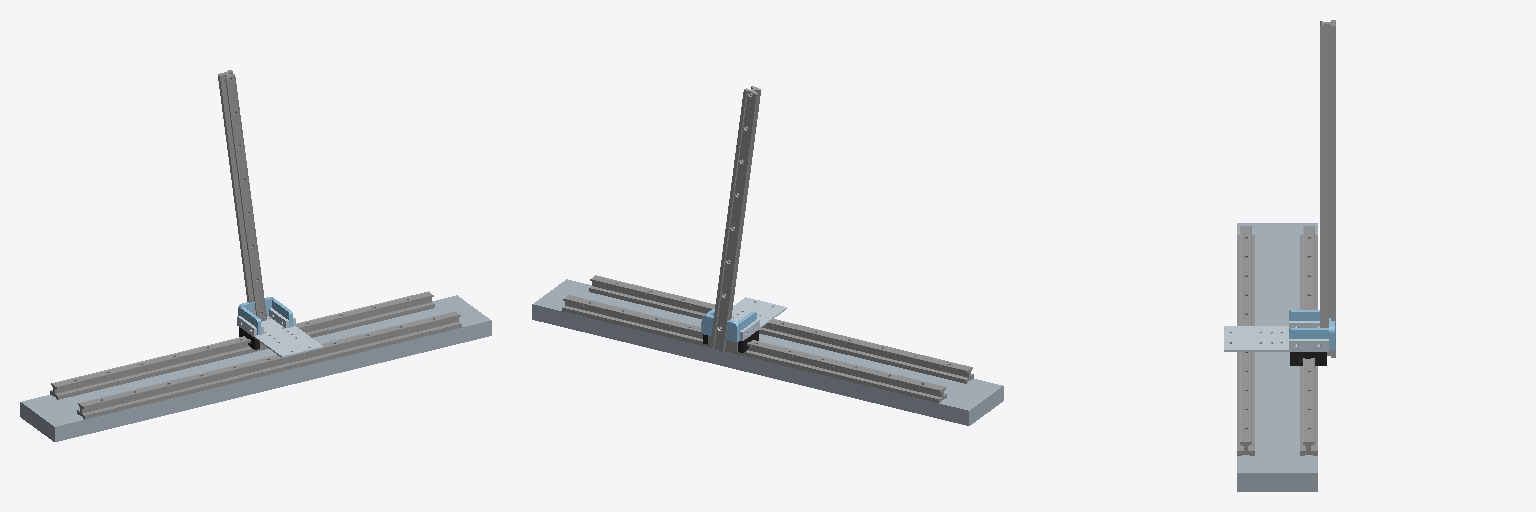
URDF robot description ([local-path]\--pendenv2\robot):
<?xml version="1.0" ?>
<!-- Generated using onshape-to-robot -->
<!-- Onshape https://cad.onshape.com/documents/265efb939ed346b4f7d58738/w/e78ce4e22e083f7f18410c40/e/9bd407be63addb95f326e36a -->
<robot name="C:\Users\Rohith\--pendenv2\robot">
  <!-- Link linear_rail -->
  <link name="linear_rail">
    <inertial>
      <origin xyz="-0.0247248 -0.0874845 -0.0764714" rpy="0 0 0"/>
      <mass value="3.07157"/>
      <inertia ixx="0.00459585" ixy="-0" ixz="-1.03574e-06" iyy="0.112669" iyz="-0" izz="0.11651"/>
    </inertial>
    <!-- Part linear_rail -->
    <visual>
      <origin xyz="0.292708 -0.12654 -0.0732083" rpy="0 -0 0"/>
      <geometry>
        <mesh filename="package://assets\linear_rail.stl"/>
      </geometry>
      <material name="linear_rail_material">
        <color rgba="0.647059 0.647059 0.647059 1"/>
      </material>
    </visual>
    <collision>
      <origin xyz="0.292708 -0.12654 -0.0732083" rpy="0 -0 0"/>
      <geometry>
        <mesh filename="package://assets\linear_rail.stl"/>
      </geometry>
    </collision>
    <!-- Part linear_rail_2 -->
    <visual>
      <origin xyz="0.292708 -0.0484295 -0.0732083" rpy="-0 0 0"/>
      <geometry>
        <mesh filename="package://assets\linear_rail.stl"/>
      </geometry>
      <material name="linear_rail_2_material">
        <color rgba="0.647059 0.647059 0.647059 1"/>
      </material>
    </visual>
    <collision>
      <origin xyz="0.292708 -0.0484295 -0.0732083" rpy="-0 0 0"/>
      <geometry>
        <mesh filename="package://assets\linear_rail.stl"/>
      </geometry>
    </collision>
    <!-- Part wood_base -->
    <visual>
      <origin xyz="-0.0497919 -0.0874845 -0.104688" rpy="0 -0 0"/>
      <geometry>
        <mesh filename="package://assets\wood_base.stl"/>
      </geometry>
      <material name="wood_base_material">
        <color rgba="0.713725 0.760784 0.8 1"/>
      </material>
    </visual>
    <collision>
      <origin xyz="-0.0497919 -0.0874845 -0.104688" rpy="0 -0 0"/>
      <geometry>
        <mesh filename="package://assets\wood_base.stl"/>
      </geometry>
    </collision>
  </link>
  <!-- Link part_1 -->
  <link name="part_1">
        <inertial>
            <mass value="0.5" />
            <origin xyz="0 -0.01 -0.01" rpy="0 -0 0" />
            <inertia ixx="0.01" ixy="0" ixz="0" iyy="0.01" iyz="0" izz="0.01" />
        </inertial>
    <!-- Part part_1 -->
    <visual>
      <origin xyz="0.023 0.010085 -0.034" rpy="-1.5708 0 -0"/>
      <geometry>
        <mesh filename="package://assets\part_1.stl"/>
      </geometry>
      <material name="part_1_material">
        <color rgba="0.811765 0.858824 0.898039 1"/>
      </material>
    </visual>
    <collision>
      <origin xyz="0.023 0.010085 -0.034" rpy="-1.5708 0 -0"/>
      <geometry>
        <mesh filename="package://assets\part_1.stl"/>
      </geometry>
    </collision>
    <!-- Part part_1_2 -->
    <visual>
      <origin xyz="-0.00307553 0.0608641 -0.058669" rpy="-1.5708 1.5708 0"/>
      <geometry>
        <mesh filename="package://assets\part_1__2.stl"/>
      </geometry>
      <material name="part_1_2_material">
        <color rgba="0.615686 0.811765 0.929412 1"/>
      </material>
    </visual>
    <collision>
      <origin xyz="-0.00307553 0.0608641 -0.058669" rpy="-1.5708 1.5708 0"/>
      <geometry>
        <mesh filename="package://assets\part_1__2.stl"/>
      </geometry>
    </collision>
    <!-- Part part_2 -->
    <visual>
      <origin xyz="0.023 -0.009915 -0.034" rpy="-1.5708 0 -0"/>
      <geometry>
        <mesh filename="package://assets\part_2.stl"/>
      </geometry>
      <material name="part_2_material">
        <color rgba="0.647059 0.647059 0.647059 1"/>
      </material>
    </visual>
    <collision>
      <origin xyz="0.023 -0.009915 -0.034" rpy="-1.5708 0 -0"/>
      <geometry>
        <mesh filename="package://assets\part_2.stl"/>
      </geometry>
    </collision>
    <!-- Part am_4456_8_mm_id_22_mm_od_shielded_bearing_608zz_57155k629 -->
    <visual>
      <origin xyz="-0.0381275 0.800812 0.00913641" rpy="3.14159 1.5708 0"/>
      <geometry>
        <mesh filename="package://assets\am_4456_8_mm_id_22_mm_od_shielded_bearing_608zz_57155k629.stl"/>
      </geometry>
      <material name="am_4456_8_mm_id_22_mm_od_shielded_bearing_608zz_57155k629_material">
        <color rgba="0.752941 0.752941 0.752941 1"/>
      </material>
    </visual>
    <collision>
      <origin xyz="-0.0381275 0.800812 0.00913641" rpy="3.14159 1.5708 0"/>
      <geometry>
        <mesh filename="package://assets\am_4456_8_mm_id_22_mm_od_shielded_bearing_608zz_57155k629.stl"/>
      </geometry>
    </collision>
    <!-- Part part_1_3 -->
    <visual>
      <origin xyz="0.023 -0.009815 -0.034" rpy="-1.5708 -0 0"/>
      <geometry>
        <mesh filename="package://assets\part_1__3.stl"/>
      </geometry>
      <material name="part_1_3_material">
        <color rgba="0.203922 0.188235 0.188235 1"/>
      </material>
    </visual>
    <collision>
      <origin xyz="0.023 -0.009815 -0.034" rpy="-1.5708 -0 0"/>
      <geometry>
        <mesh filename="package://assets\part_1__3.stl"/>
      </geometry>
    </collision>
  </link>
  <!-- Link pendulum -->
  <link name="pendulum">
    <inertial>
      <origin xyz="0.180319 -0 -0.00707436" rpy="0 0 0"/>
      <mass value="0.238"/>
      <inertia ixx="0.01" ixy="0" ixz="0" iyy="0.01" iyz="0" izz="0.01"/>
    </inertial>
    <!-- Part pendulum -->
    <visual>
      <origin xyz="0.3968 0 -0.00505505" rpy="-3.14159 0 0"/>
      <geometry>
        <mesh filename="package://assets\pendulum.stl"/>
      </geometry>
      <material name="pendulum_material">
        <color rgba="0.647059 0.647059 0.647059 1"/>
      </material>
    </visual>
    <collision>
      <origin xyz="0.3968 0 -0.00505505" rpy="-3.14159 0 0"/>
      <geometry>
        <mesh filename="package://assets\pendulum.stl"/>
      </geometry>
    </collision>
  </link>
  <!-- Joint from part_1 to pendulum -->
  <joint name="pendulum_pivot" type="revolute">
    <origin xyz="-0.0100755 0.0261118 -0.0336771" rpy="-1.5708 -0.132152 1.5708"/>
    <parent link="part_1"/>
    <child link="pendulum"/>
    <axis xyz="0 0 1"/>
    <limit effort="10" velocity="10" lower="-3.141592653589793" upper="3.141592653589793"/>
  </joint>
  <!-- Joint from linear_rail to part_1 -->
  <joint name="cart_slider" type="prismatic">
    <origin xyz="-0.0180985 -0.0264295 -0.0601986" rpy="1.5708 -0 -1.5708"/>
    <parent link="linear_rail"/>
    <child link="part_1"/>
    <axis xyz="0 0 1"/>
    <limit effort="100" velocity="100" lower="-0.15" upper="0.15"/>
  </joint>
</robot>

--- Facts derived from the render (not from the file) ---
3 views of the same robot in one strip: view 1: azimuth 30°, elevation 25°; view 2: azimuth 150°, elevation 25°; view 3: azimuth 270°, elevation 25° (orthographic).
Model [local-path]\--pendenv2\robot with 3 links and 2 joints (1 revolute, 1 prismatic), rooted at linear_rail, posed every joint at zero.
Visible links, largest first — view 1: linear_rail, pendulum, part_1; view 2: linear_rail, pendulum, part_1; view 3: linear_rail, pendulum, part_1.
Link boxes in pixels (x1,y1,x2,y2): linear_rail: (20, 291, 491, 441); pendulum: (218, 70, 266, 321); part_1: (237, 297, 323, 357); linear_rail: (532, 275, 1003, 425); pendulum: (710, 86, 760, 351); part_1: (701, 297, 786, 352); linear_rail: (1237, 223, 1317, 491); pendulum: (1320, 20, 1335, 357); part_1: (1224, 310, 1334, 365).
Bounding box of the posed robot: 0.7358 × 0.1387 × 0.4654 m (x, y, z).
9 mesh visuals loaded from 8 distinct referenced files (8 binary STL).
